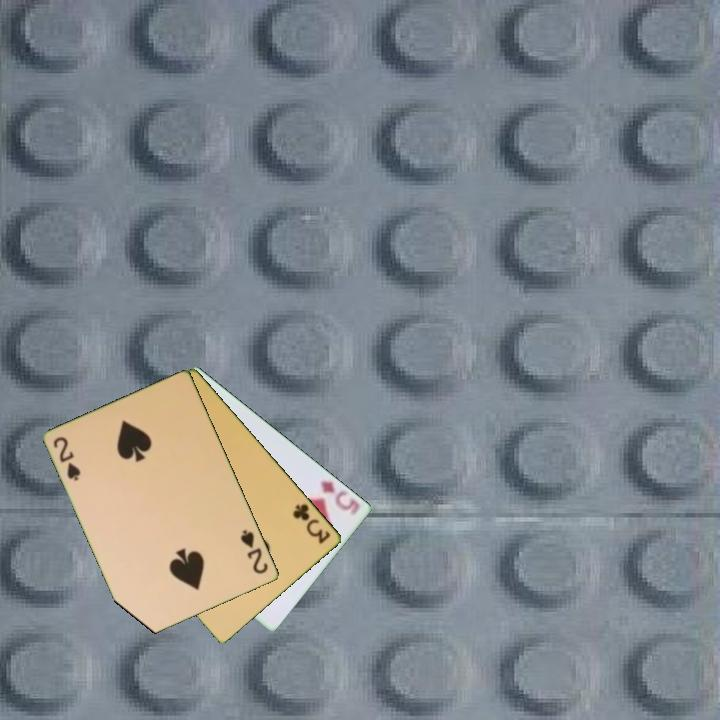2s: (237, 526, 271, 577), (50, 433, 84, 484)
3c: (289, 500, 334, 547)
5d: (317, 477, 364, 519)
